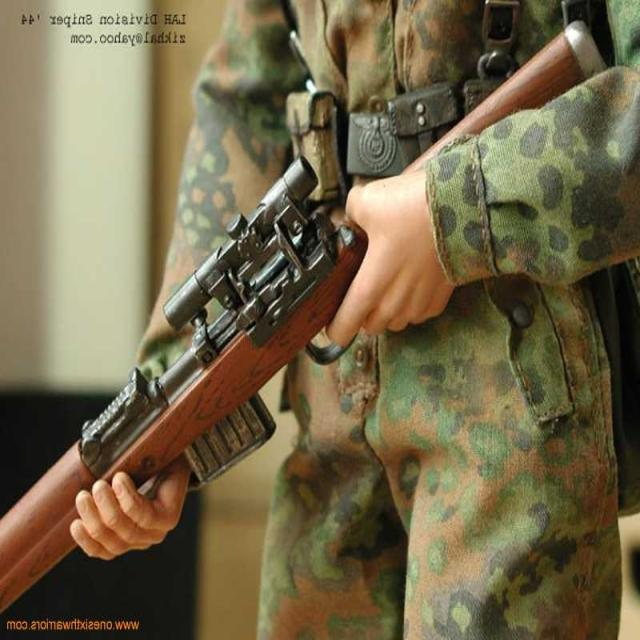heavyweapon: (1, 20, 628, 635)
